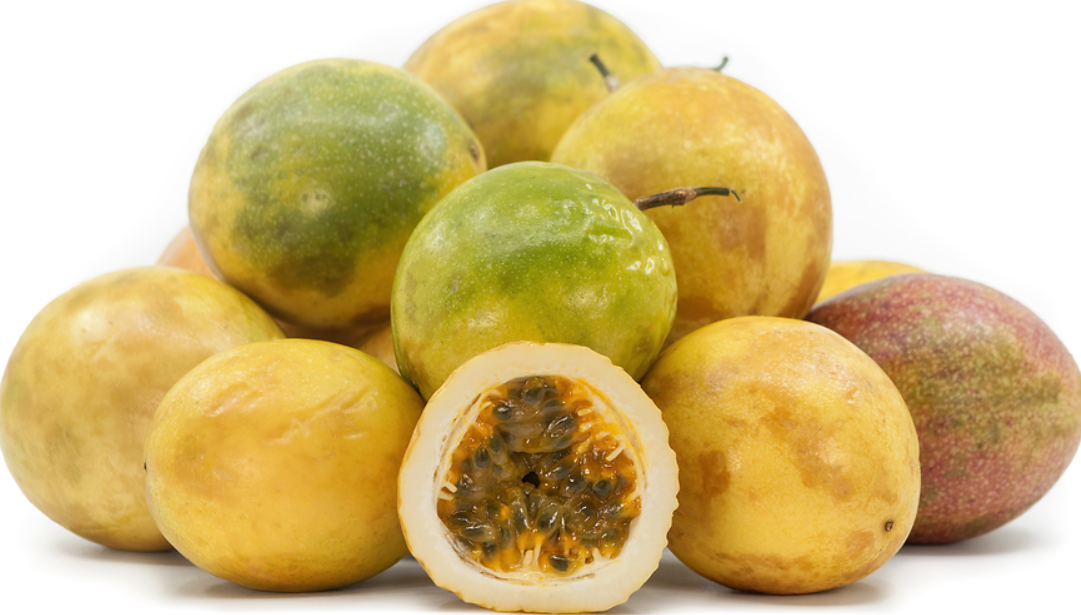maracuya: (173, 47, 492, 337), (541, 56, 846, 350), (1, 261, 284, 570), (643, 307, 925, 601), (146, 331, 448, 601), (374, 156, 685, 416)
